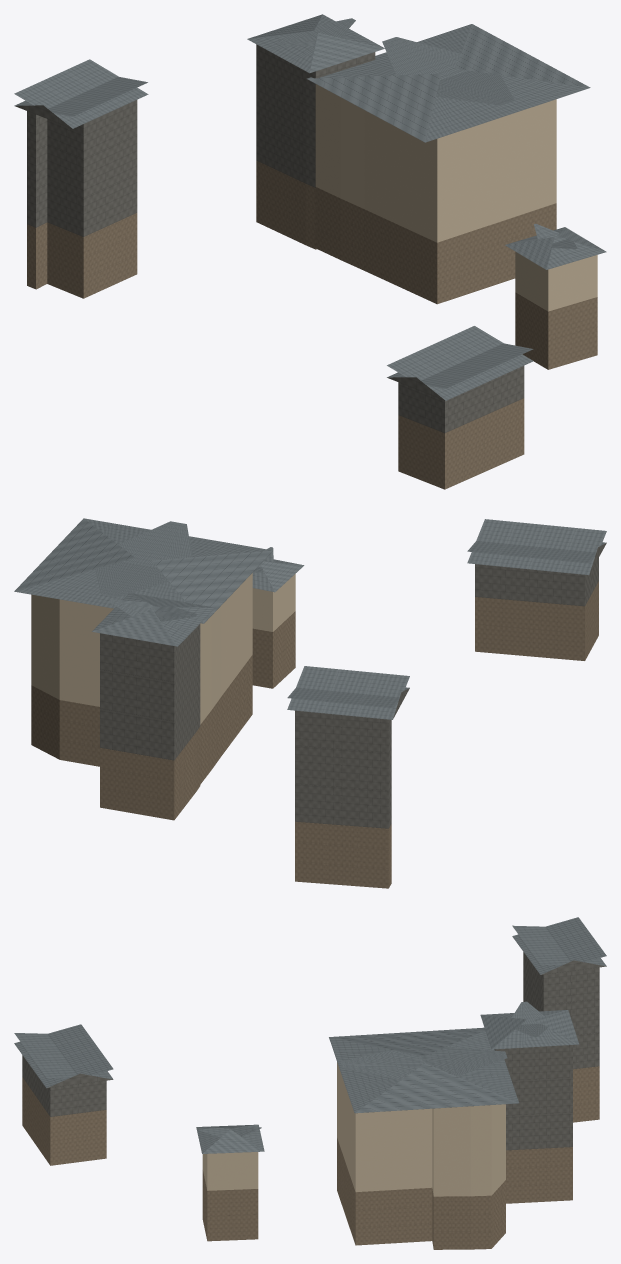
The model's file is bld_c4_5_503.gltf.
3 renders of one model, top to bottom at view 1: azimuth 30°, elevation 25°; view 2: azimuth 150°, elevation 25°; view 3: azimuth 270°, elevation 25°, orthographic. The views are drawn at different scales.
Parts seen in each view (by area): view 1: bld_c4_5_503; view 2: bld_c4_5_503; view 3: bld_c4_5_503.
Part boxes in pixels (x1,y1,x2,y2): bld_c4_5_503: (14, 14, 606, 489); bld_c4_5_503: (14, 518, 606, 888); bld_c4_5_503: (14, 917, 606, 1249).
Bounding box in the file's own units: 38.76 × 17.4 × 51.4.
5 materials, 5 textured.
